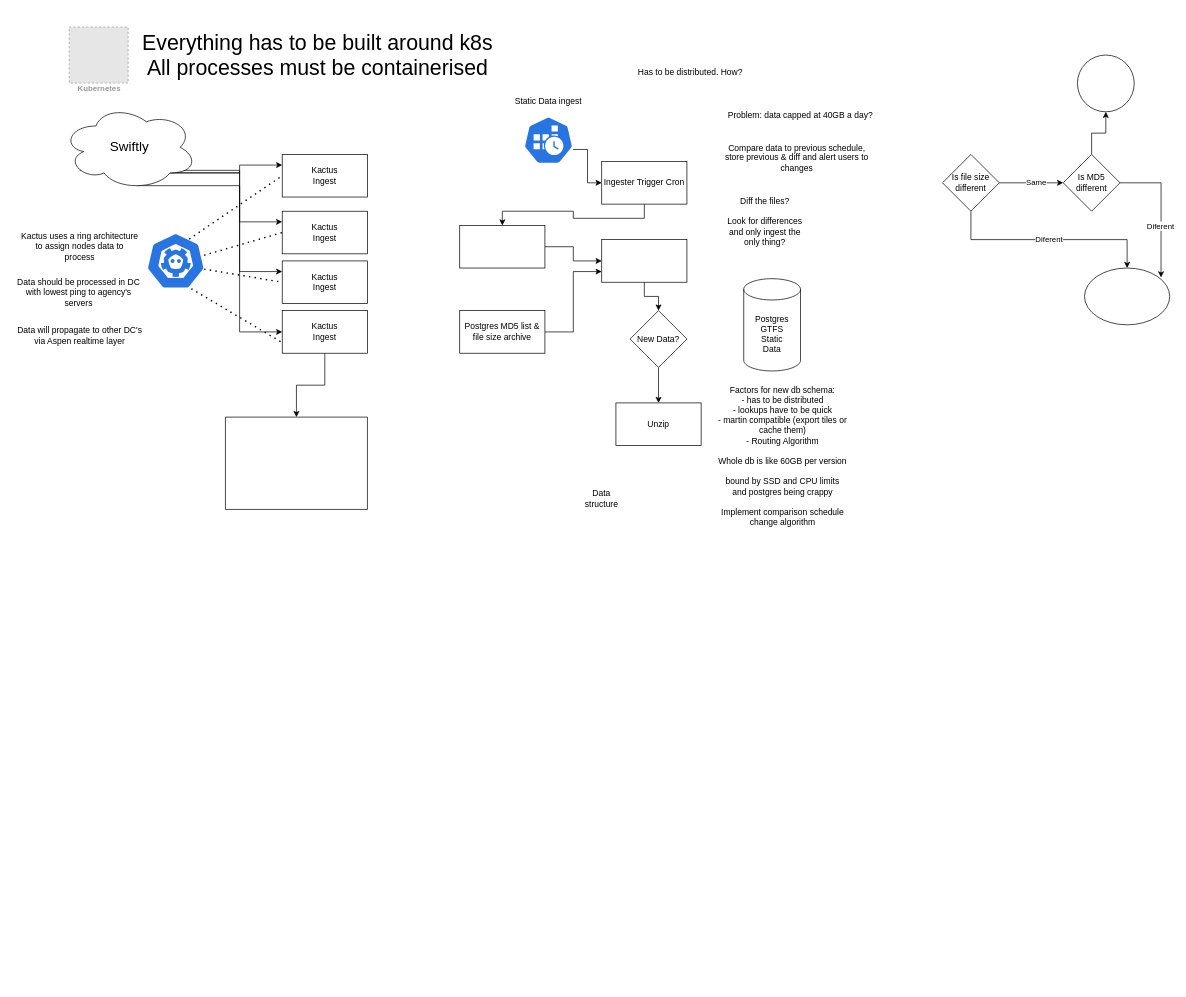
This 1186x997 diagram has some shape labels left out. Grey dashed boxes stand in for pictures. Each missing label, with the centre of its shape:
Download: the point at 502,246
Etcd: the point at 175,260
ingest!: the point at 1127,296
Kactus Public Developer API (based on v1 kactus, should be backwards compatible): the point at 296,462
MD5 hash each zip file / file size change: the point at 644,260
No: the point at 1105,83
